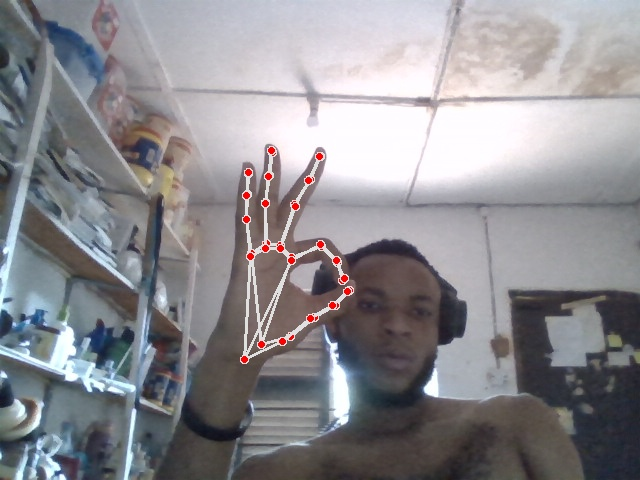okay: (218, 142, 356, 368)
